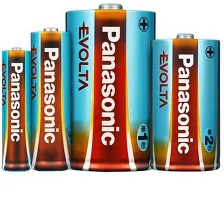battery: (61, 2, 159, 174), (147, 31, 222, 172), (26, 25, 76, 174), (0, 46, 31, 174)
